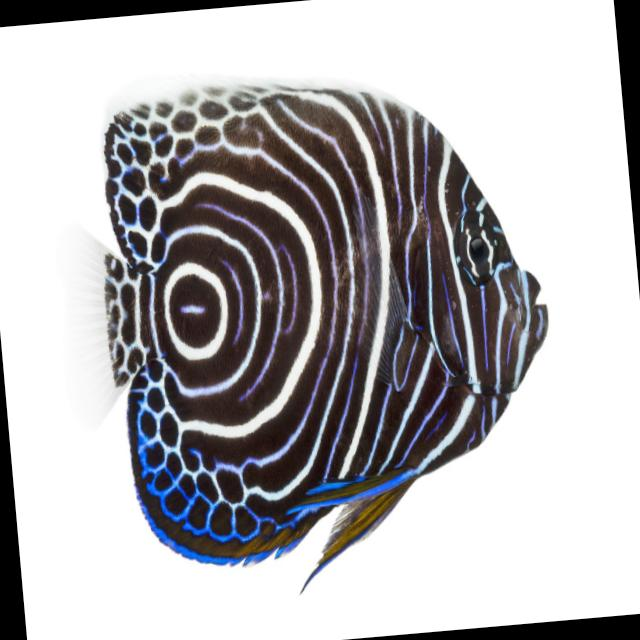AngelFish: (80, 54, 571, 607)
